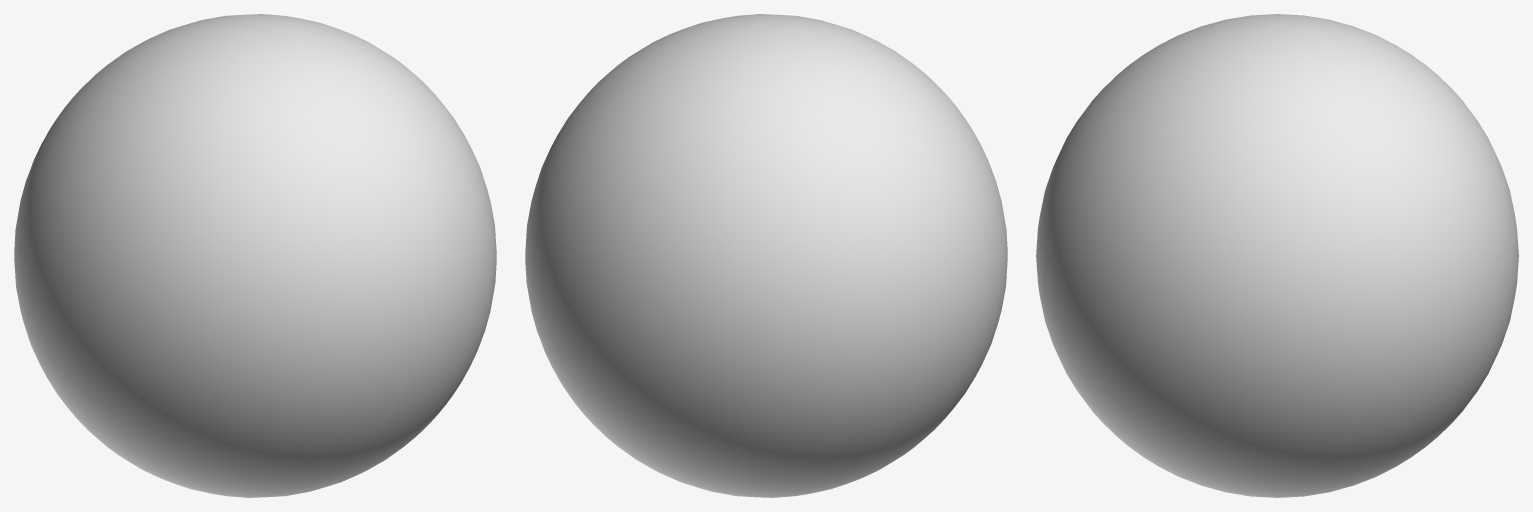
3 renders of one model, left to right at view 1: azimuth 30°, elevation 25°; view 2: azimuth 150°, elevation 25°; view 3: azimuth 270°, elevation 25°, orthographic.
Parts seen in each view (by area): view 1: root; view 2: root; view 3: root.
Part boxes in pixels (x1,y1,x2,y2): root: (14, 14, 496, 497); root: (525, 14, 1007, 497); root: (1036, 14, 1518, 497).
Size of the model in its own units: 0.3013 by 0.3023 by 0.3013.
1 material, 1 textured.
